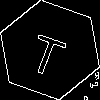T: (25, 25, 71, 78)
